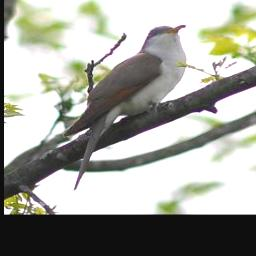Cuckoo: (61, 24, 188, 194)
